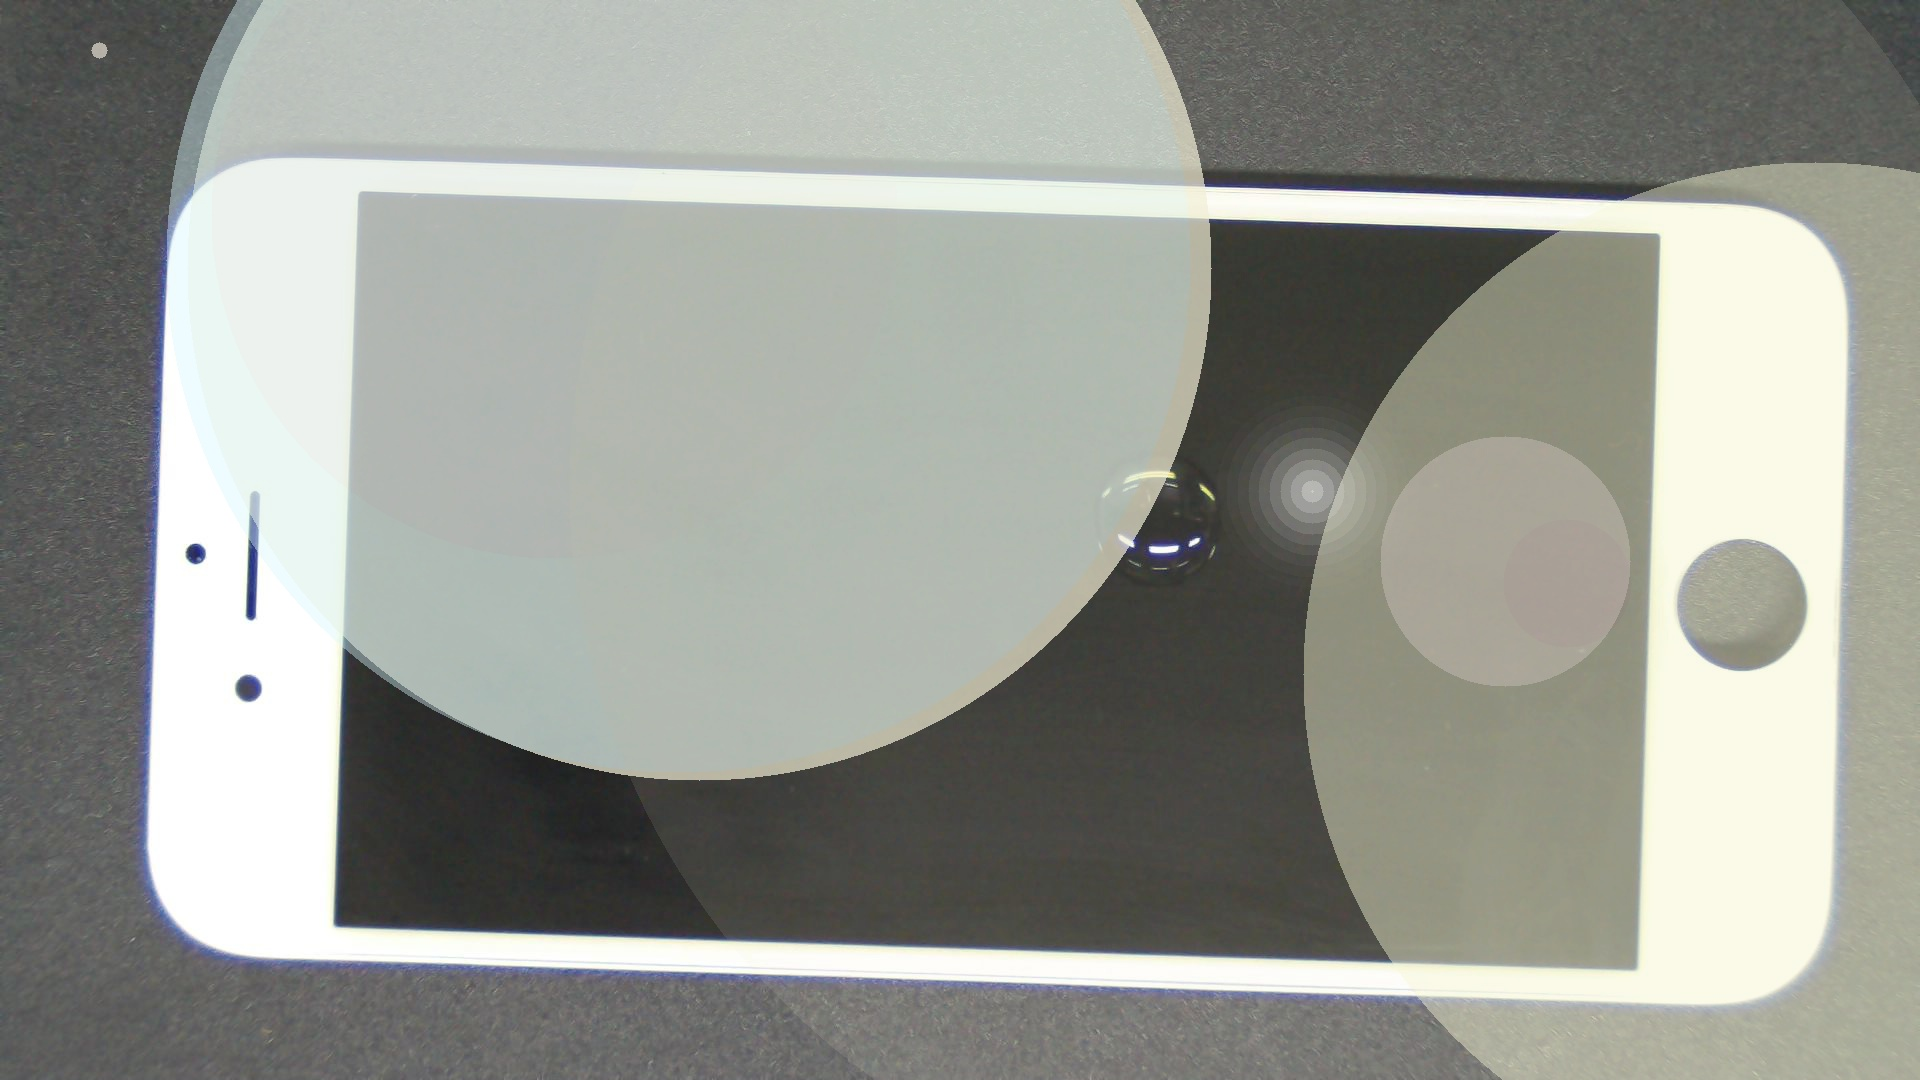oil: (574, 223, 1720, 671)
